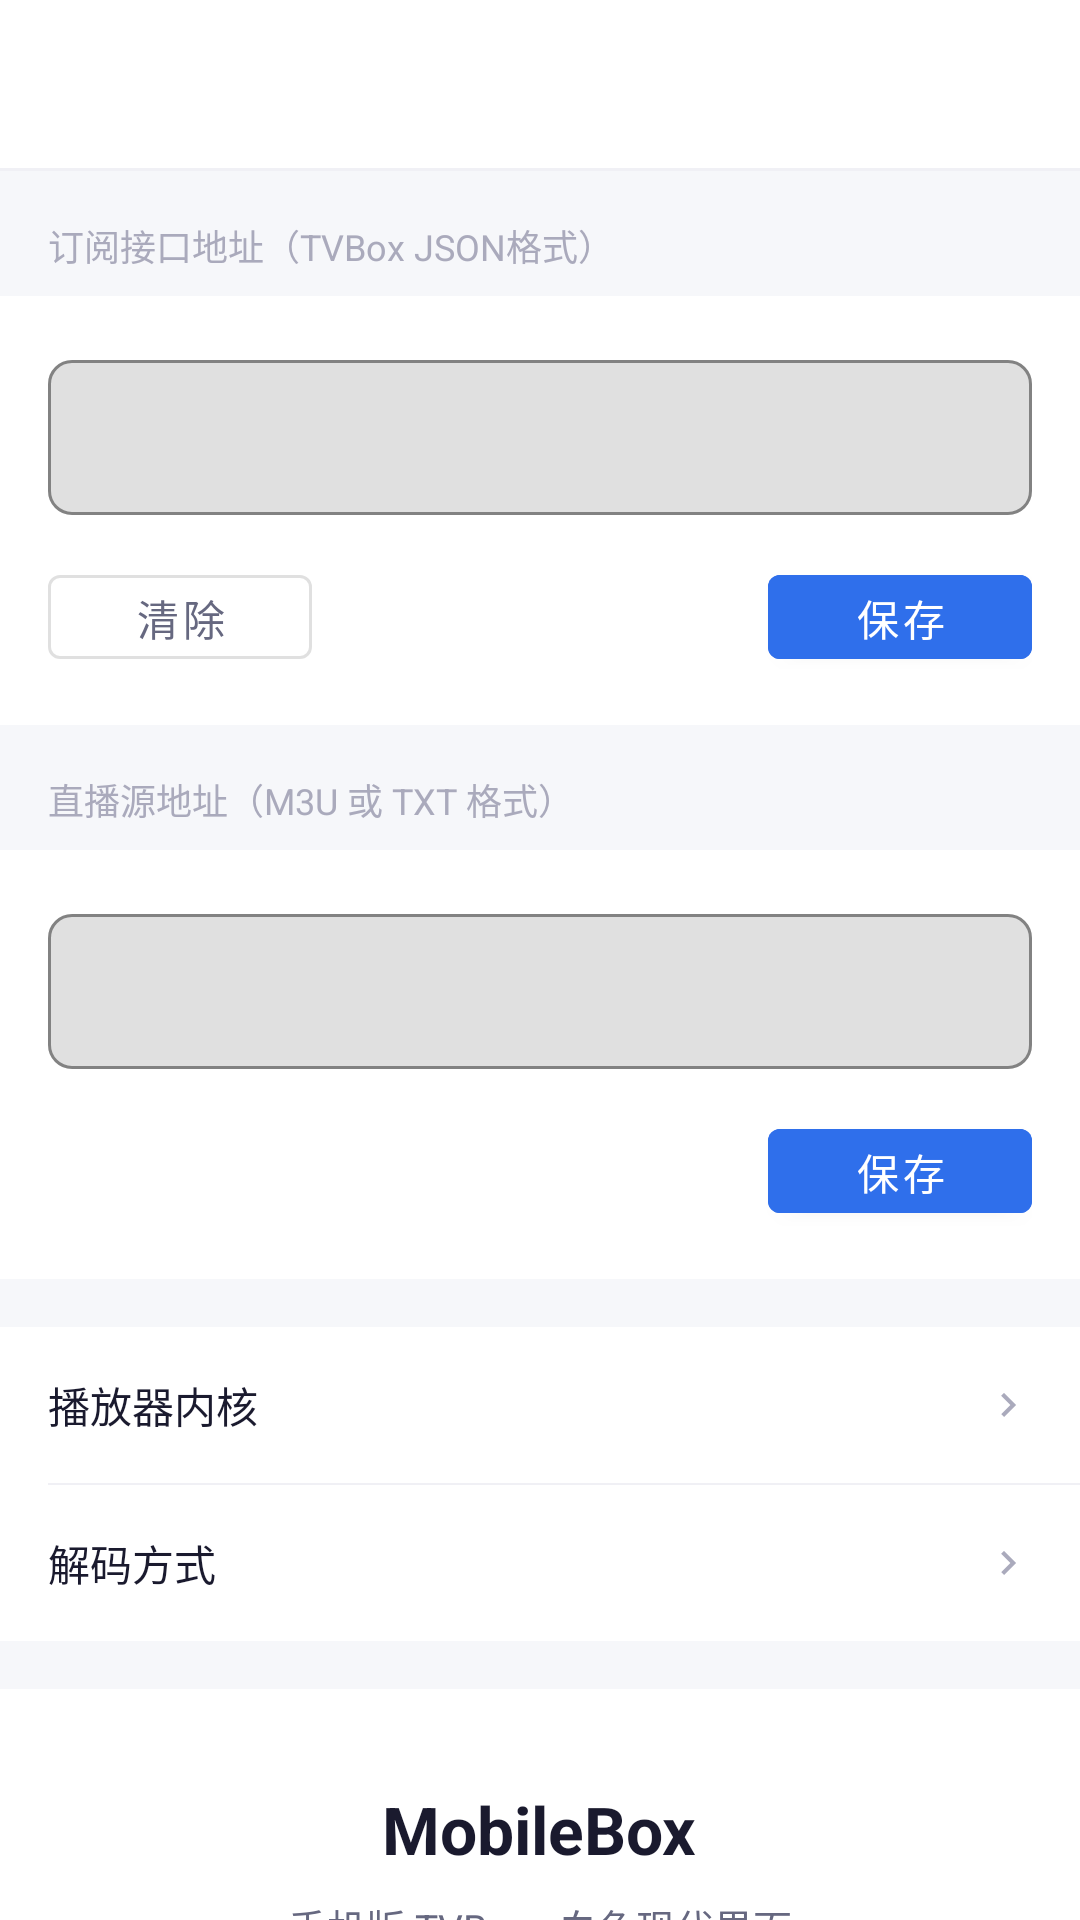

Point at icon controls on the screen. Image size 1080px×1920px, points as [x,y].
chevron right: [1008,1405], [1008,1563]
